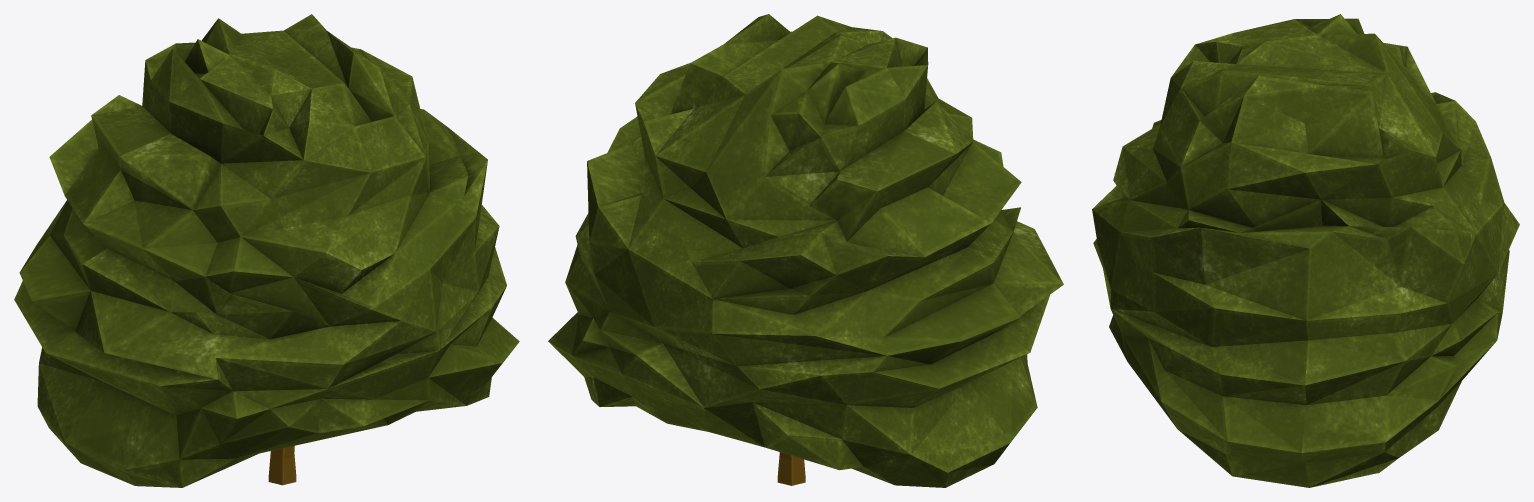
3 renders of one model, left to right at view 1: azimuth 30°, elevation 25°; view 2: azimuth 150°, elevation 25°; view 3: azimuth 270°, elevation 25°, orthographic. The views are drawn at different scales.
Parts seen in each view (by area): view 1: SycamoreTree_mesh; view 2: SycamoreTree_mesh; view 3: SycamoreTree_mesh.
Boxes of the visible parts, box(x1,y1,x2,y2) form: SycamoreTree_mesh: box(14, 14, 519, 487); SycamoreTree_mesh: box(548, 14, 1063, 487); SycamoreTree_mesh: box(1092, 14, 1519, 487).
Size of the model in its own units: 13.93 by 13.07 by 12.1.
Materials: 1 (1 with a texture image).
